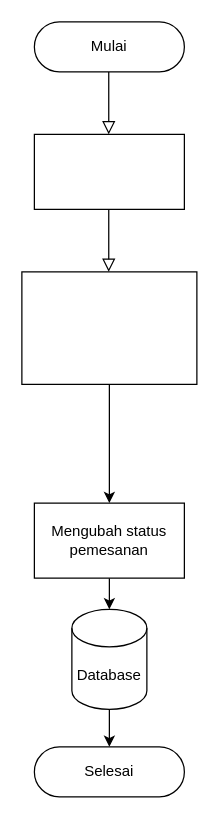
This 219x819 diagram has some shape labels left out. The shapes that lost their labels are listed below. From the top down, each one's box as (x1, y1, x2, y2) in pixels, then its label:
(33, 133, 184, 209): Melihat data pemesanan
(21, 271, 197, 384): Melakukan filtering data pemesanan berdasarkan tanggal check-in atau nama tamu
